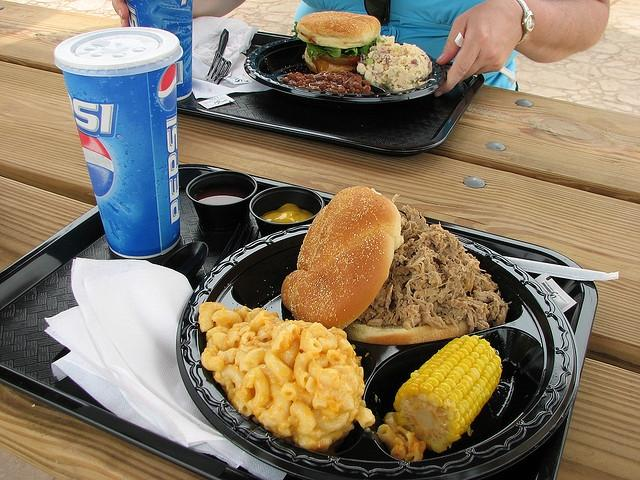corn: (393, 335, 502, 453)
